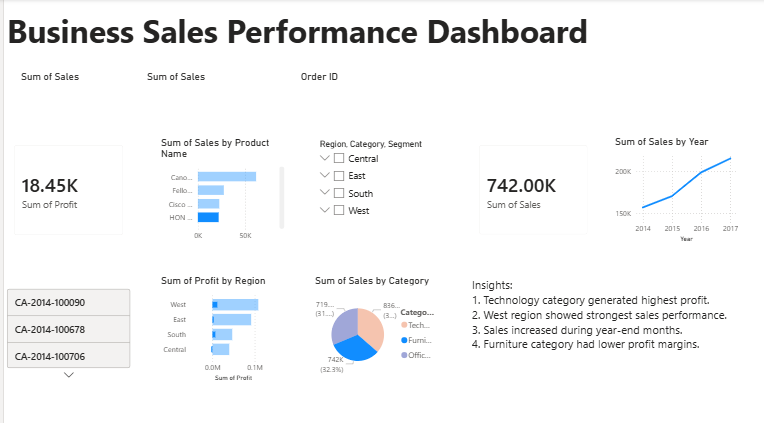

The page's visual inventory and layout, read from the dashboard file:
{"tool":"powerbi","page":{"name":"Page 1","canvas":[1280,720],"ordinal":0},"visuals":[{"type":"cardVisual","fields":{"Data":["Sum(Sample - Superstore.Sales)"]},"box":[781.1,228.5,216.7,184.8],"z":0},{"type":"cardVisual","fields":{"Data":["Sum(Sample - Superstore.Profit)"]},"box":[0,229.1,217,185],"z":1000},{"type":"cardVisual","fields":{"Rows":["Sample - Superstore.Order ID"]},"box":[0,462.1,217,185],"z":2000},{"type":"lineChart","fields":{"Category":["Sample - Superstore.Order Date.Variation.Date Hierarchy.Year","Sample - Superstore.Order Date.Variation.Date Hierarchy.Quarter","Sample - Superstore.Order Date.Variation.Date Hierarchy.Month","Sample - Superstore.Order Date.Variation.Date Hierarchy.Day"],"Y":["Sum(Sample - Superstore.Sales)"]},"box":[1021.3,228.5,216.7,184.8],"z":3000},{"type":"barChart","fields":{"Category":["Sample - Superstore.Product Name"],"Y":["Sum(Sample - Superstore.Sales)"]},"box":[259,229.6,217,185],"z":4000},{"type":"barChart","fields":{"Category":["Sample - Superstore.Region"],"Y":["Sum(Sample - Superstore.Profit)"]},"box":[259,462.6,217,185],"z":5000},{"type":"pieChart","fields":{"Category":["Sample - Superstore.Category"],"Y":["Sum(Sample - Superstore.Sales)"]},"box":[517.4,461.9,216.7,184.8],"z":6000},{"type":"slicer","fields":{"Values":["Sample - Superstore.Region","Sample - Superstore.Category","Sample - Superstore.Segment"]},"box":[518,229.6,217,185],"z":7000},{"type":"textbox","box":[0,10.1,1238,94.1],"z":8000},{"type":"kpi","fields":{"Indicator":["Sum(Sample - Superstore.Sales)"]},"box":[23.5,119.3,122.6,42],"z":8001},{"type":"kpi","fields":{"Indicator":["Sum(Sample - Superstore.Sales)"]},"box":[235.2,119.3,220.1,42],"z":8002},{"type":"kpi","fields":{"TrendLine":["Sample - Superstore.Order ID"]},"box":[493.9,119.3,240.2,42],"z":8003},{"type":"textbox","box":[781.1,461.9,456.9,141.1],"z":8004}]}

Visuals, with their boxes in screenshot pixels (x1, y1, x2, y2), scaled from the page's 1280x720 canvas onto the 764x423 screenshot:
cardVisual - Sum(Sample - Superstore.Sales): left=466, top=134, right=596, bottom=243
cardVisual - Sum(Sample - Superstore.Profit): left=0, top=135, right=130, bottom=243
cardVisual - Sample - Superstore.Order ID: left=0, top=271, right=130, bottom=380
lineChart - Sample - Superstore.Order Date.Variation.Date Hierarchy.Year x Sample - Superstore.Order Date.Variation.Date Hierarchy.Quarter: left=610, top=134, right=739, bottom=243
barChart - Sample - Superstore.Product Name x Sum(Sample - Superstore.Sales): left=155, top=135, right=284, bottom=244
barChart - Sample - Superstore.Region x Sum(Sample - Superstore.Profit): left=155, top=272, right=284, bottom=380
pieChart - Sample - Superstore.Category x Sum(Sample - Superstore.Sales): left=309, top=271, right=438, bottom=380
slicer - Sample - Superstore.Region x Sample - Superstore.Category: left=309, top=135, right=439, bottom=244
textbox: left=0, top=6, right=739, bottom=61
kpi - Sum(Sample - Superstore.Sales): left=14, top=70, right=87, bottom=95
kpi - Sum(Sample - Superstore.Sales): left=140, top=70, right=272, bottom=95
kpi - Sample - Superstore.Order ID: left=295, top=70, right=438, bottom=95
textbox: left=466, top=271, right=739, bottom=354
